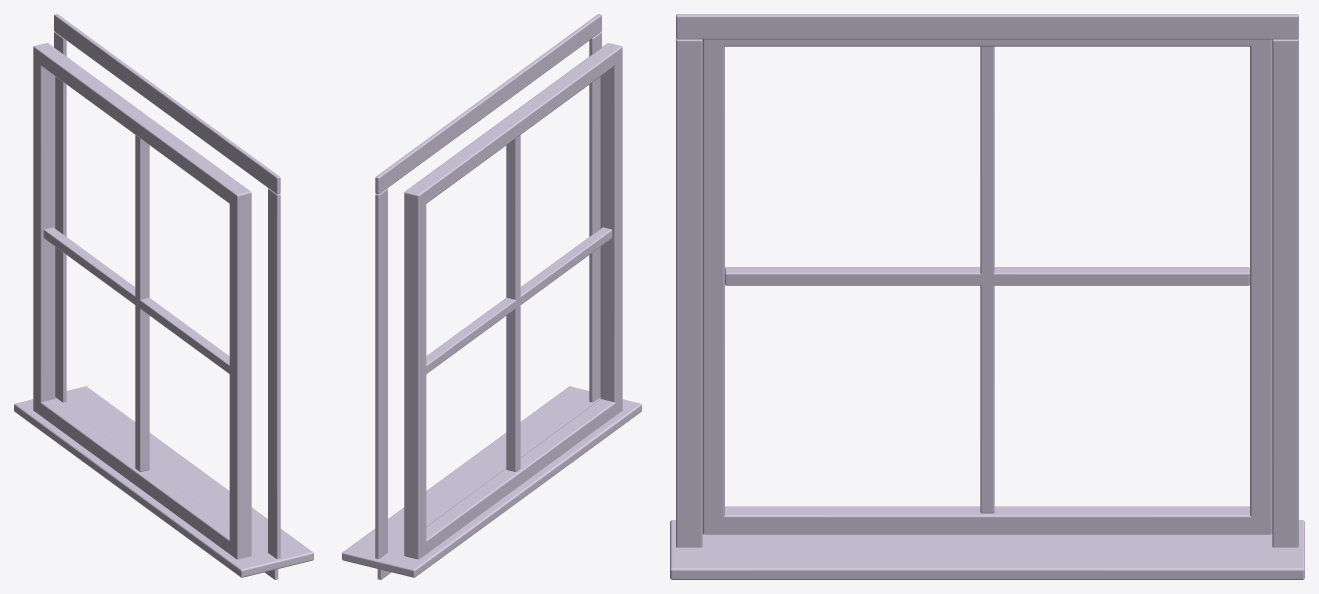
File: window_pane.fbx
The picture shows the model from 3 angles, left to right: view 1: azimuth 30°, elevation 25°; view 2: azimuth 150°, elevation 25°; view 3: azimuth 270°, elevation 25°; orthographic projection. The views are drawn at different scales.
Parts seen in each view (by area): view 1: window_pane, Window_Sash; view 2: window_pane, Window_Sash; view 3: window_pane, Window_Sash.
Boxes of the visible parts, left/top/right/bottom form: window_pane: left=14, top=14, right=313, bottom=579; Window_Sash: left=43, top=135, right=229, bottom=471; window_pane: left=342, top=14, right=641, bottom=579; Window_Sash: left=426, top=135, right=612, bottom=471; window_pane: left=670, top=14, right=1304, bottom=579; Window_Sash: left=725, top=46, right=1249, bottom=513.
Bounding box in the file's own units: 0.29 × 1.53 × 1.56.
